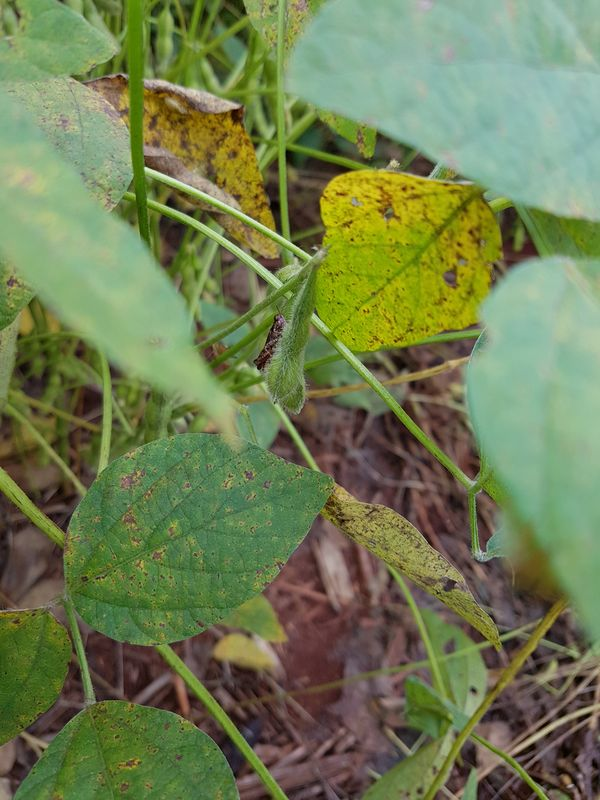Rhammatocerus_schistocercoides: (237, 295, 299, 384)
